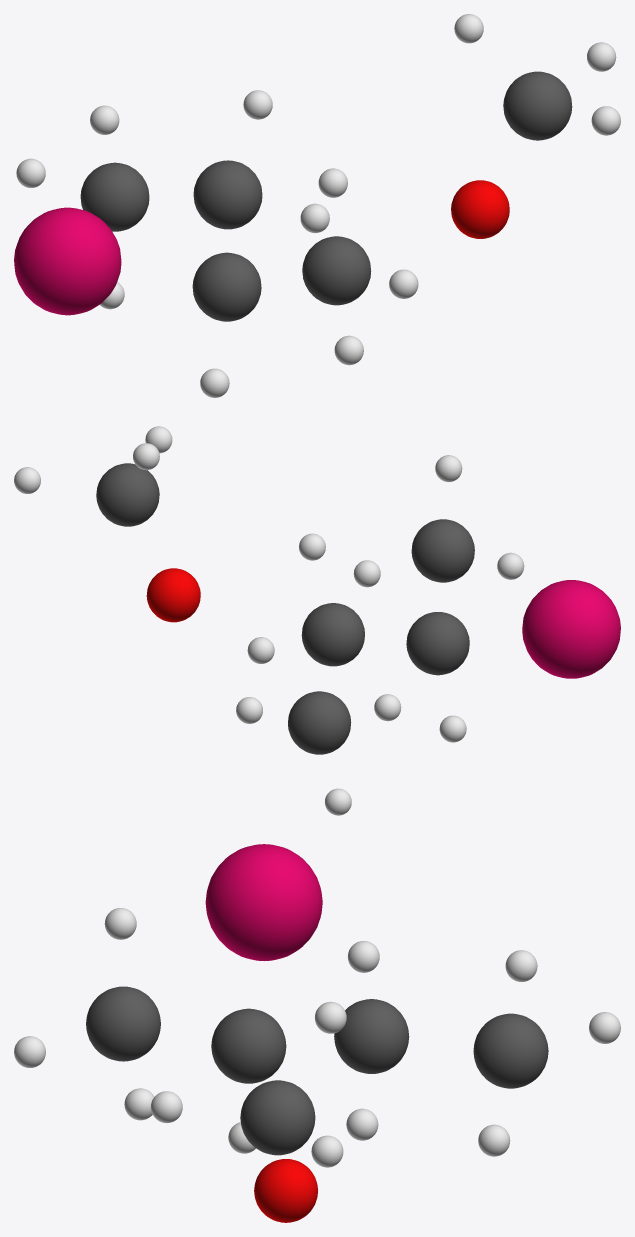
The model's file is 2-BromobutaneMeO.fbx.
3 views of the same model, one above another, from view 1: azimuth 30°, elevation 25°; view 2: azimuth 150°, elevation 25°; view 3: azimuth 270°, elevation 25° (orthographic). The views are drawn at different scales.
Parts seen in each view (by area): view 1: Br14, C01, C15, C05, C07, C10, O19, H06, H18, H02, H04, H16 (+6 smaller); view 2: Br14, C01, C10, C05, C07, C15, O19, H06, H02, H09, H16, H03 (+7 smaller); view 3: Br14, C15, C10, C05, C01, C07, O19, H17, H11, H13, H08, H16 (+6 smaller).
Part boxes in pixels (x1,y1,x2,y2): Br14: (14,207,121,315); C01: (302,236,371,305); C15: (503,71,572,140); C05: (192,252,261,321); C07: (193,160,262,229); C10: (80,162,149,231); O19: (451,180,509,238); H06: (200,368,229,397); H18: (591,106,620,135); H02: (389,269,418,298); H04: (318,168,347,197); H16: (454,14,483,43); Br14: (522,580,620,678); C01: (411,519,474,582); C10: (288,691,351,754); C05: (406,612,469,675); C07: (301,603,364,666); C15: (96,463,159,526); O19: (146,568,200,622); H06: (439,715,466,742); H02: (353,560,380,587); H09: (299,533,325,560); H16: (133,443,159,470); H03: (497,552,524,579); Br14: (205,844,322,960); C15: (240,1080,315,1155); C10: (473,1013,548,1088); C05: (211,1008,286,1083); C01: (86,986,160,1061); C07: (334,999,409,1073); O19: (254,1159,317,1222); H17: (311,1135,343,1167); H11: (505,950,537,981); H13: (478,1124,510,1156); H08: (346,1108,378,1140); H16: (314,1001,346,1033).
Size of the model in its own units: 780 by 336 by 606.
